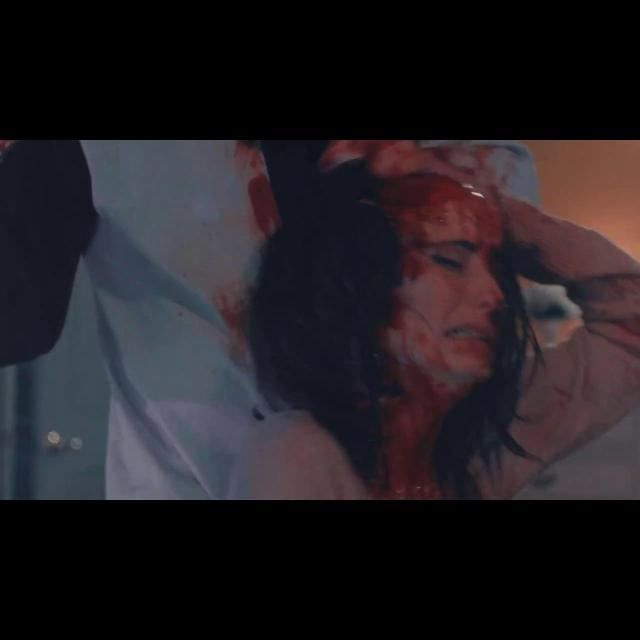blood: (208, 140, 640, 500)
